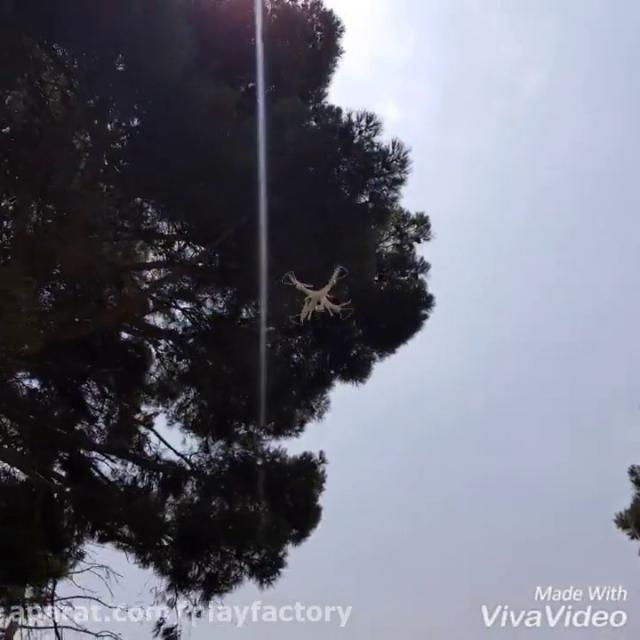drone: (282, 264, 352, 324)
